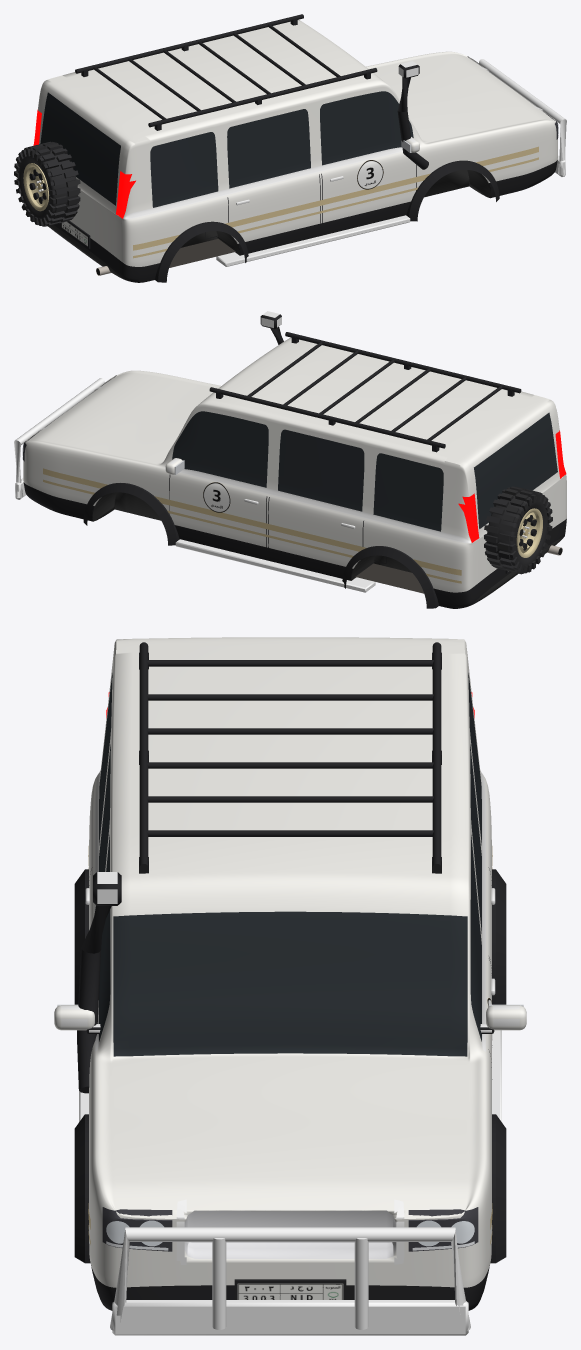
Rendered from SM_NajdiGXR_Body.fbx.
The picture shows the model from 3 angles, top to bottom: view 1: azimuth 30°, elevation 25°; view 2: azimuth 150°, elevation 25°; view 3: azimuth 270°, elevation 25°; orthographic projection. The views are drawn at different scales.
Parts seen in each view (by area): view 1: SM_NajdiGXR_Body; view 2: SM_NajdiGXR_Body; view 3: SM_NajdiGXR_Body.
Part boxes in pixels (<box>): SM_NajdiGXR_Body: <box>14,14,566,282</box>; SM_NajdiGXR_Body: <box>14,311,566,608</box>; SM_NajdiGXR_Body: <box>54,637,526,1335</box>.
Size of the model in its own units: 543 by 168 by 232.
